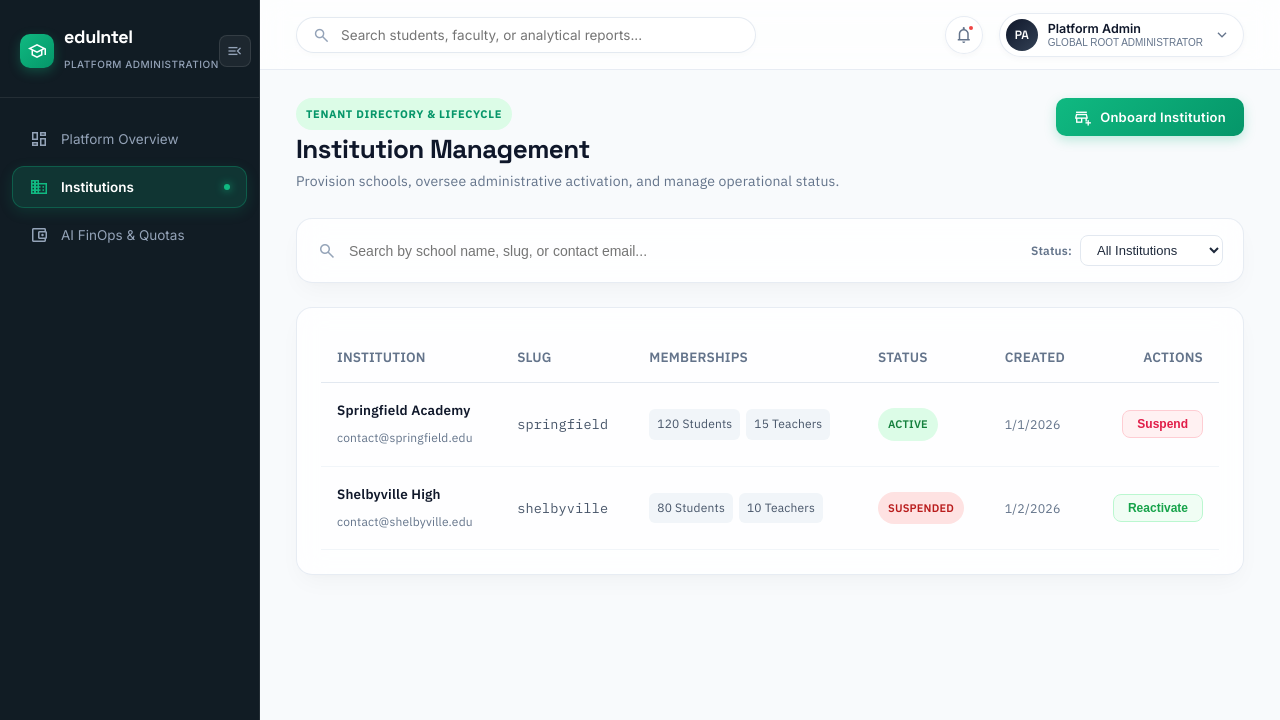
Test: Institution Management UI & Lifecycle (SEC-04, SEC-05) › provisions institution and presents one-time activation token with copy action
Later steps or results of the test are not shown.
Expected: the text "Springfield Academy" is shown, [337, 401, 471, 419]
# Open Onboard Modal
Click the button "Onboard Institution".
click(1150, 117)  # box [1056, 98, 1244, 136]
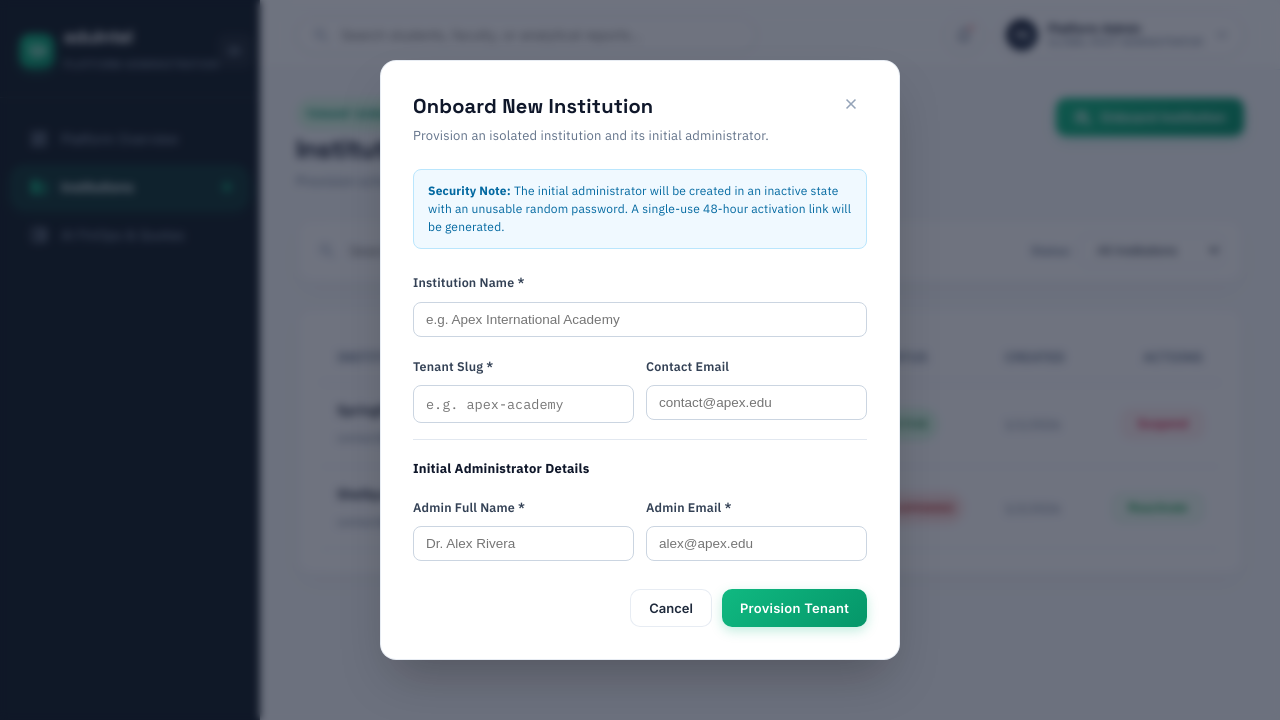
Now the heading "Onboard New Institution" is shown, box [413, 93, 653, 119]
Type "Capital City College" into the field with placeholder "e.g. Apex International Academy".
click(640, 319); type("Capital City College")  # box [413, 302, 867, 336]
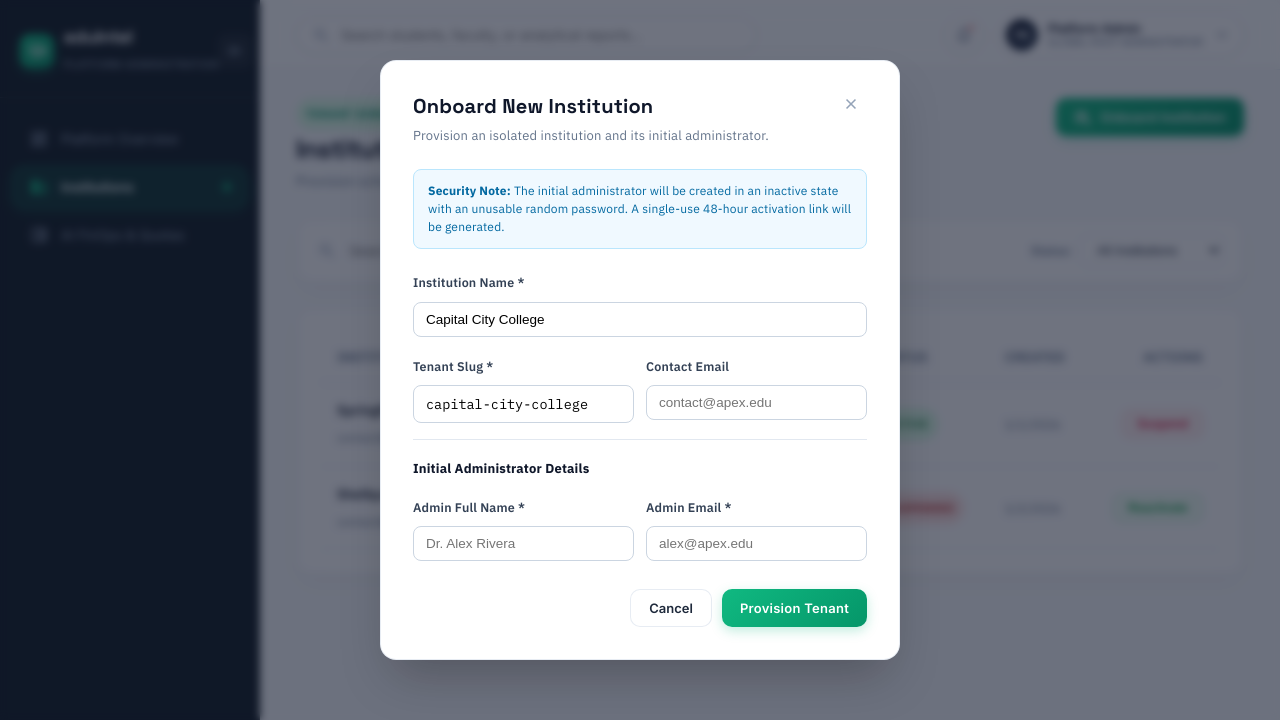
Type "Principal Seymour" into the field with placeholder "Dr. Alex Rivera".
click(524, 543); type("Principal Seymour")  # box [413, 526, 634, 561]
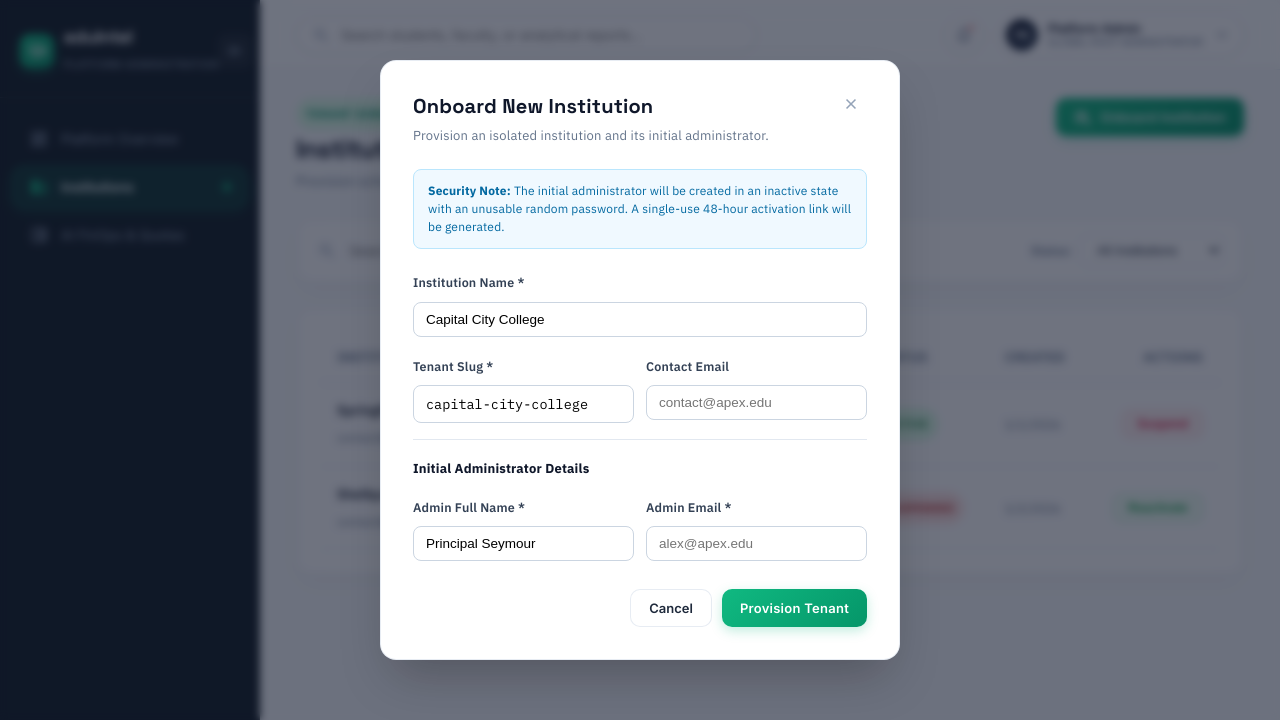
Type "principal@capital.edu" into the field with placeholder "alex@apex.edu".
click(756, 543); type("principal@capital.edu")  # box [646, 526, 867, 561]
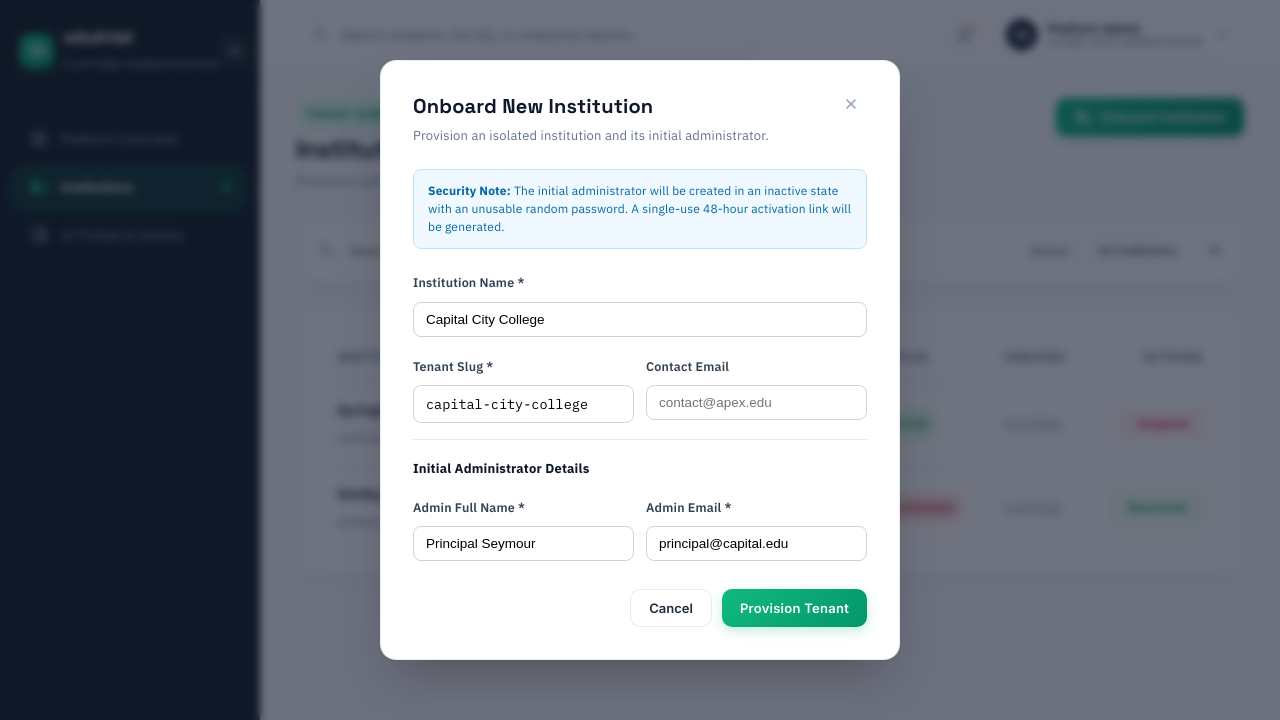
# Submit provisioning
Click the button "Provision Tenant".
click(794, 608)  # box [722, 589, 867, 627]
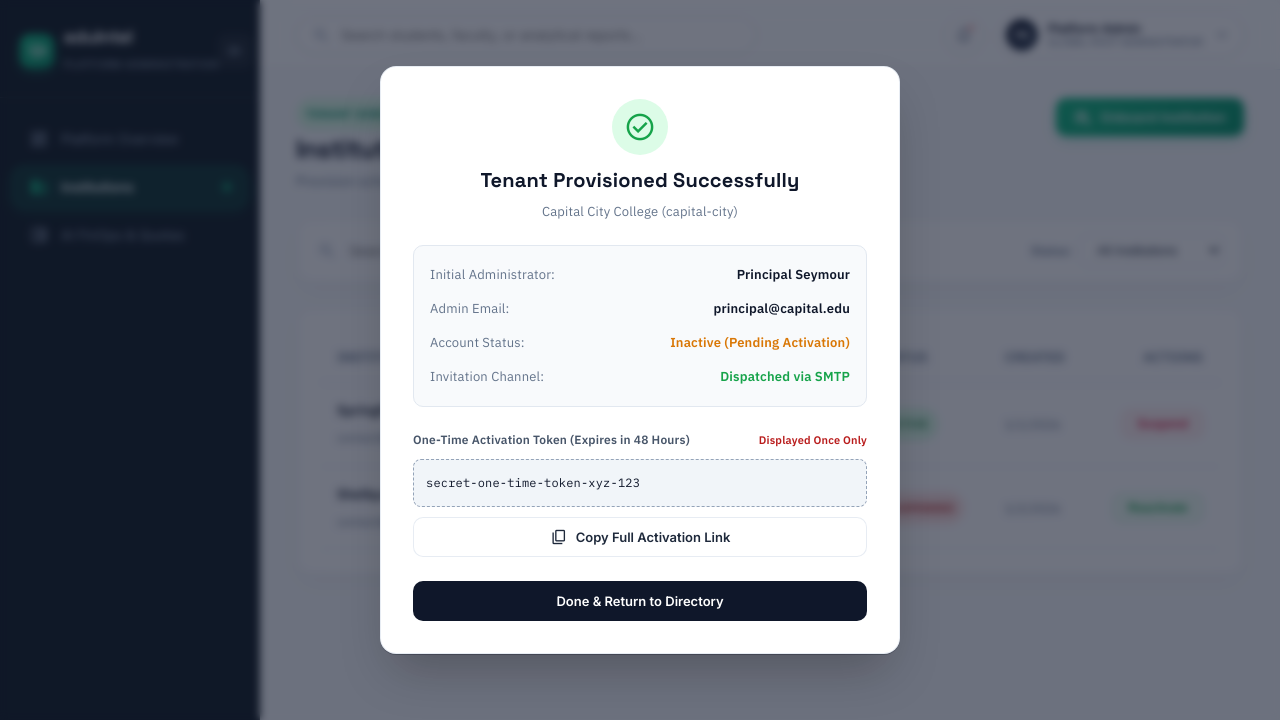
Now the heading "Tenant Provisioned Successfully" is shown, box [480, 167, 799, 193]
Now the text "secret-one-time-token-xyz-123" is shown, box [413, 459, 867, 507]
Now the text "Dispatched via SMTP" is shown, box [720, 364, 850, 390]
